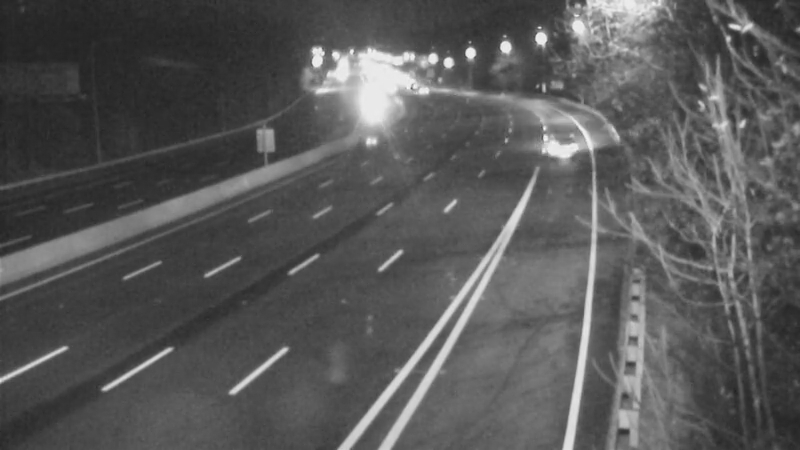vehicle: (397, 65, 447, 115), (530, 119, 580, 169), (348, 81, 398, 131)
